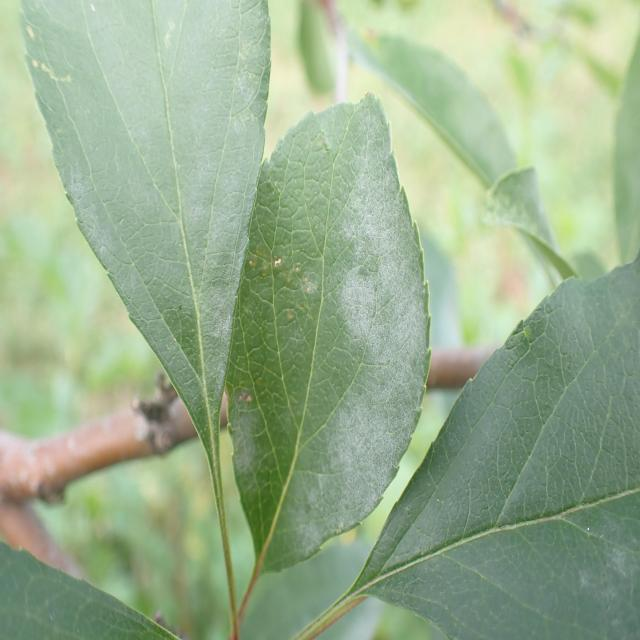Powdery_mildew: (306, 244, 640, 640), (22, 0, 272, 488), (243, 102, 430, 589)
